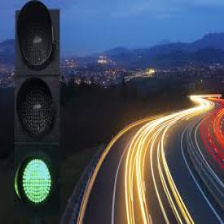semaforo: (7, 1, 64, 216)
